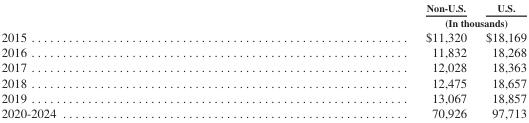table: (0, 1, 525, 119)
table column: (0, 1, 240, 119), (240, 1, 475, 119), (475, 1, 525, 119)
table column header: (0, 1, 525, 28)
table row: (0, 28, 525, 44), (0, 44, 525, 59), (0, 59, 525, 74), (0, 74, 525, 89), (0, 89, 525, 104), (0, 104, 525, 119), (0, 14, 525, 28), (0, 1, 525, 14)
table spanning cell: (240, 14, 525, 28)
